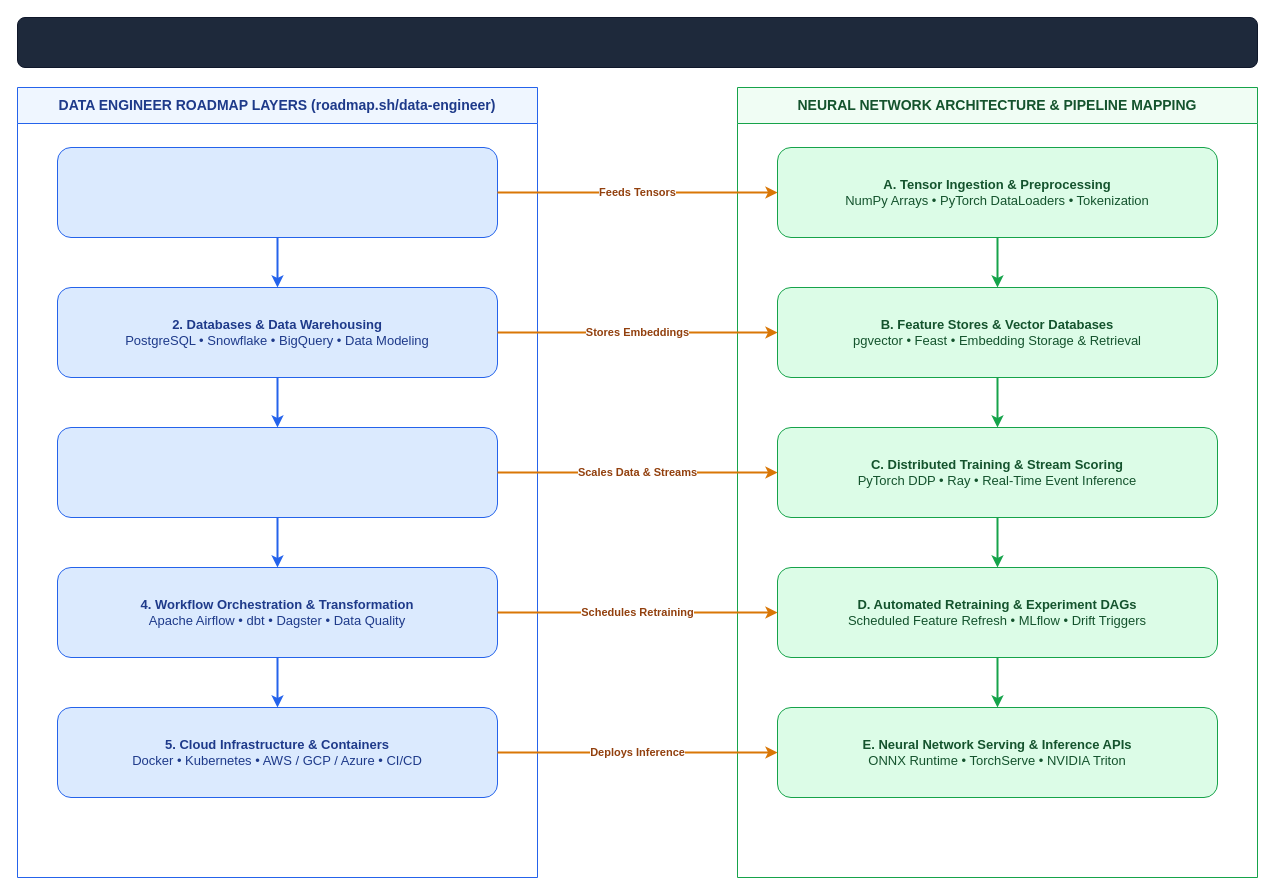
The diagram is 1275 pixels wide and 895 high, and some of its shapes have lost their labels. Here are the shapes that lost their labels. From the top down, the centre of each, then its label:
At point 637,42: "Beginner Guide: Neural Network Mapping on roadmap.sh/data-engineer".
At point 277,192: "1. Programming & Core Foundations Python • SQL • Linux CLI • Git".
At point 277,472: "3. Big Data & Stream Processing Apache Spark • Apache Kafka • Apache Flink".
